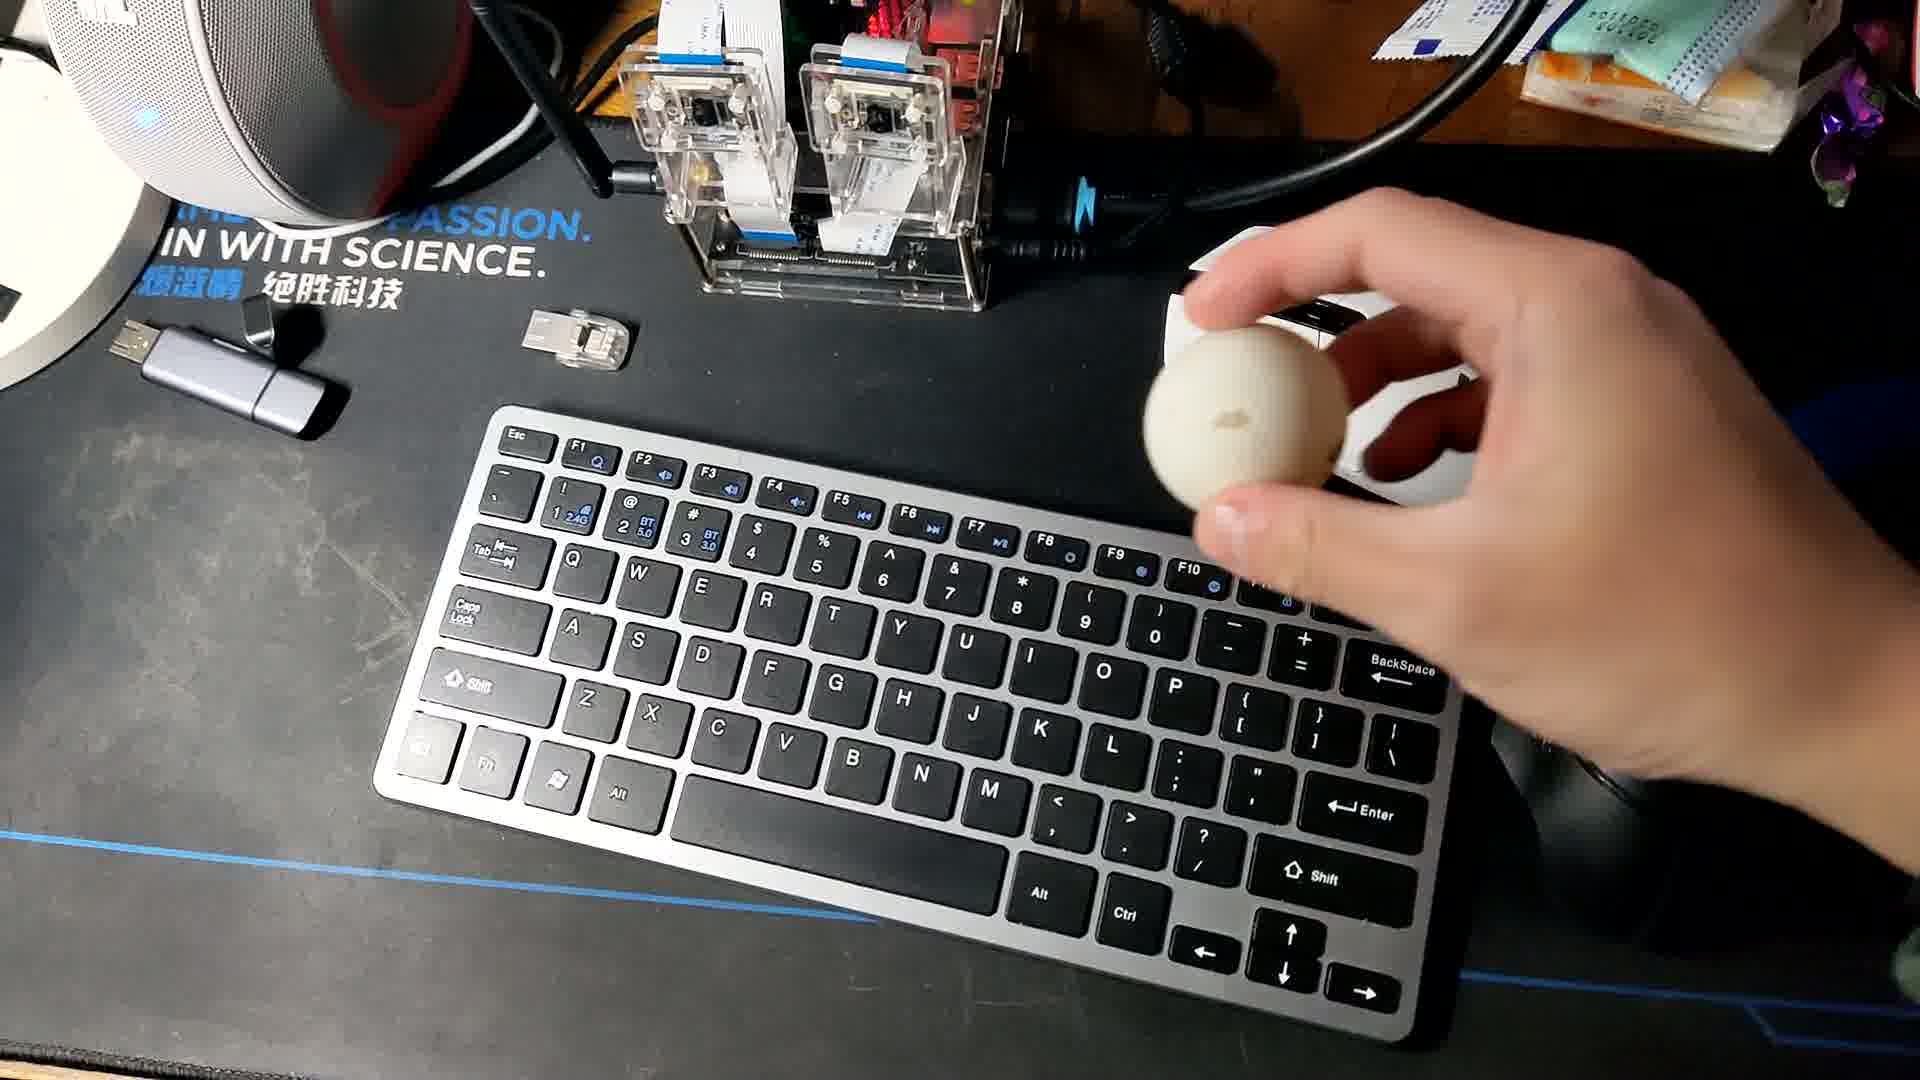Ball: (1139, 326, 1349, 524)
